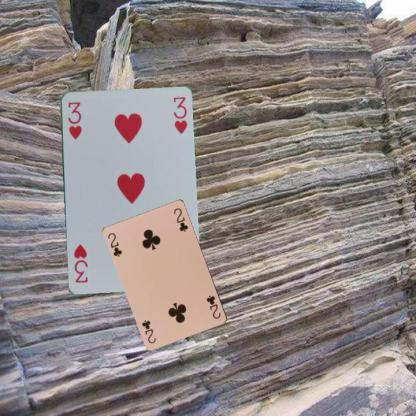2c: (105, 230, 124, 258), (204, 293, 222, 320)
3h: (64, 99, 82, 140)
